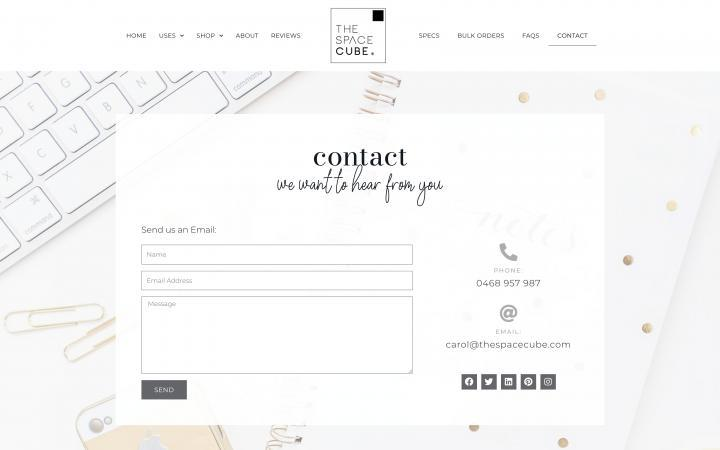button: (142, 380, 189, 401)
dropdown: (197, 32, 227, 41), (159, 32, 186, 41)
icon: (499, 242, 523, 264), (501, 302, 520, 326), (501, 375, 518, 391), (482, 375, 498, 391), (461, 375, 478, 390), (522, 376, 538, 390), (542, 376, 556, 389)
input: (143, 245, 413, 267), (143, 272, 414, 292)
label: (459, 33, 506, 40), (559, 32, 593, 41), (235, 33, 262, 41), (127, 32, 148, 41), (419, 33, 443, 40), (523, 32, 541, 41), (273, 34, 303, 39)
